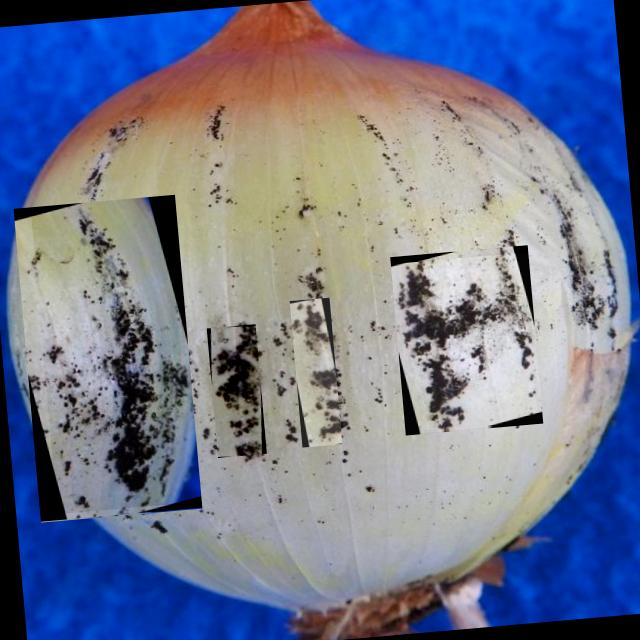mould: (53, 202, 191, 504), (396, 262, 535, 430), (206, 323, 266, 458), (289, 297, 342, 447)
